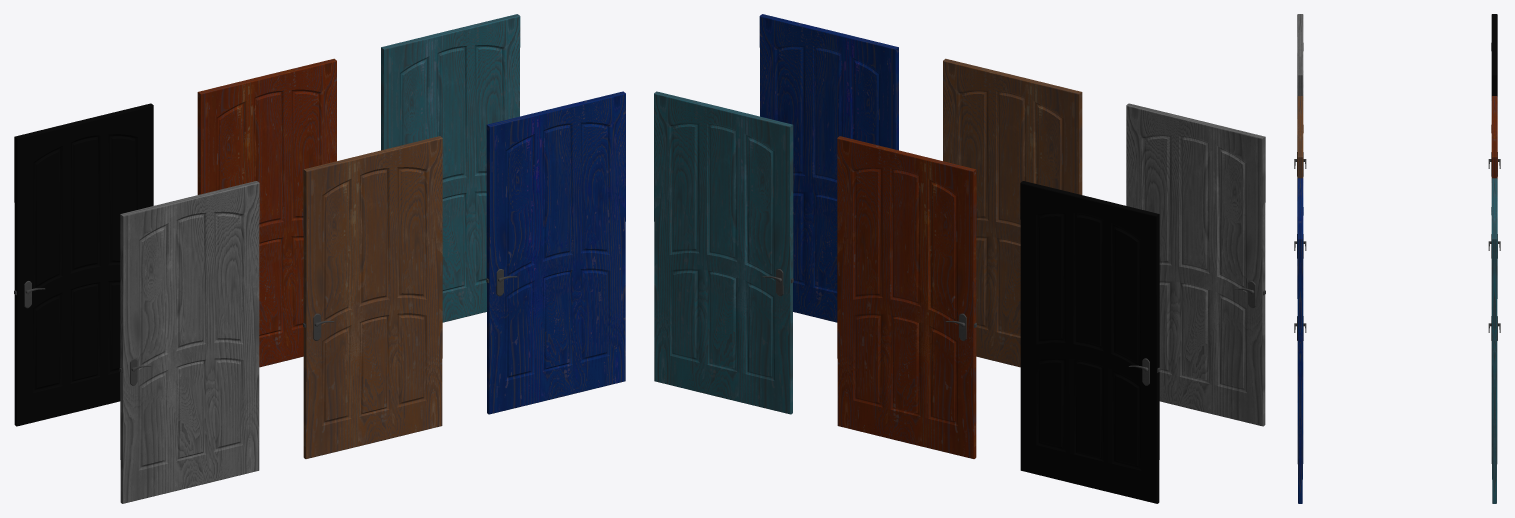
The model's file is for_export.fbx.
3 renders of one model, left to right at view 1: azimuth 30°, elevation 25°; view 2: azimuth 150°, elevation 25°; view 3: azimuth 270°, elevation 25°, orthographic. The views are drawn at different scales.
Visible parts, largest first — view 1: wooden_door_1, wooden_door_2, wooden_door_3, wooden_door_4, wooden_door_5, wooden_door_6; view 2: wooden_door_4, wooden_door_5, wooden_door_6, wooden_door_1, wooden_door_2, wooden_door_3; view 3: wooden_door_3, wooden_door_6, wooden_door_2, wooden_door_5, wooden_door_1, wooden_door_4.
Part boxes in pixels (x1,y1,x2,y2): wooden_door_1: (119, 181, 259, 503); wooden_door_2: (303, 136, 442, 458); wooden_door_3: (486, 91, 625, 414); wooden_door_4: (14, 103, 153, 426); wooden_door_5: (197, 58, 336, 367); wooden_door_6: (381, 14, 520, 322); wooden_door_4: (1020, 181, 1160, 503); wooden_door_5: (837, 136, 976, 458); wooden_door_6: (654, 91, 793, 414); wooden_door_1: (1126, 103, 1265, 426); wooden_door_2: (943, 58, 1082, 367); wooden_door_3: (759, 14, 898, 322); wooden_door_3: (1294, 178, 1306, 503); wooden_door_6: (1488, 178, 1500, 503); wooden_door_2: (1294, 96, 1306, 258); wooden_door_5: (1488, 96, 1500, 258); wooden_door_1: (1294, 14, 1306, 176); wooden_door_4: (1488, 14, 1500, 176).
Bounding box in the file's own units: 825 × 451 × 318.
Materials: 6 (6 with a texture image).
